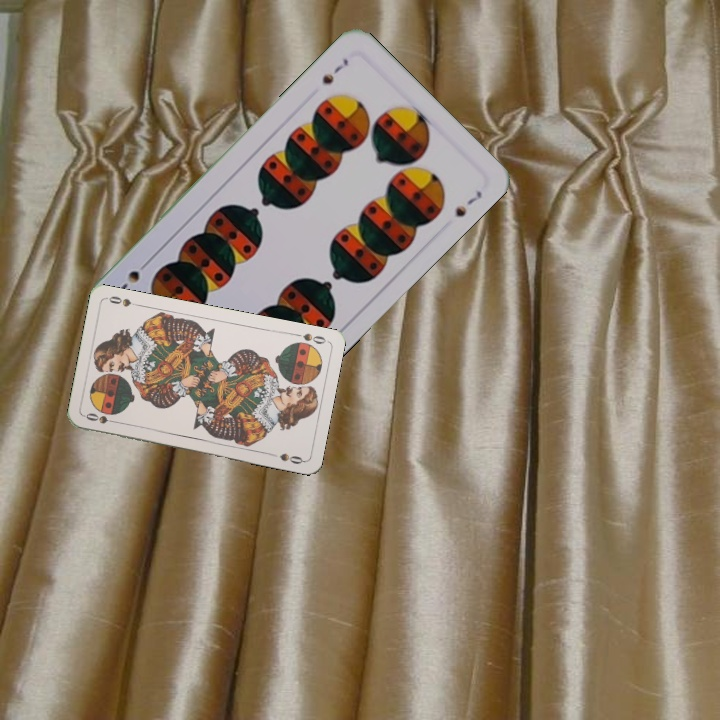S7: (318, 54, 351, 87)
SO: (81, 409, 121, 426), (289, 329, 329, 346)
